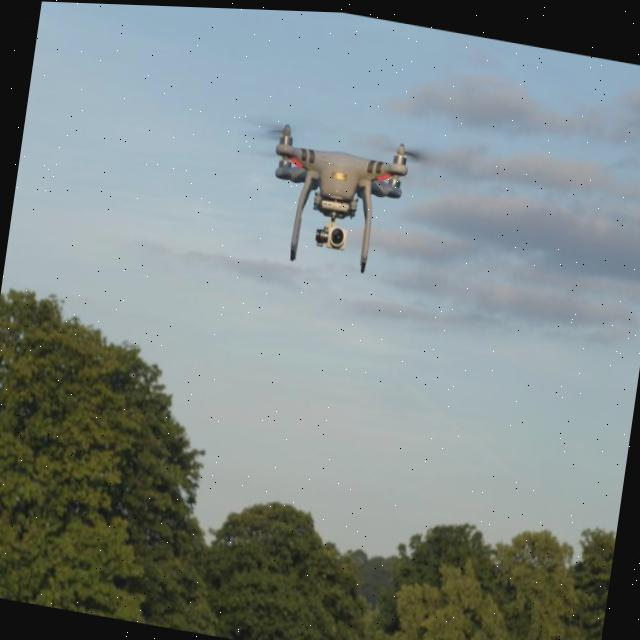drone: (247, 113, 418, 278)
